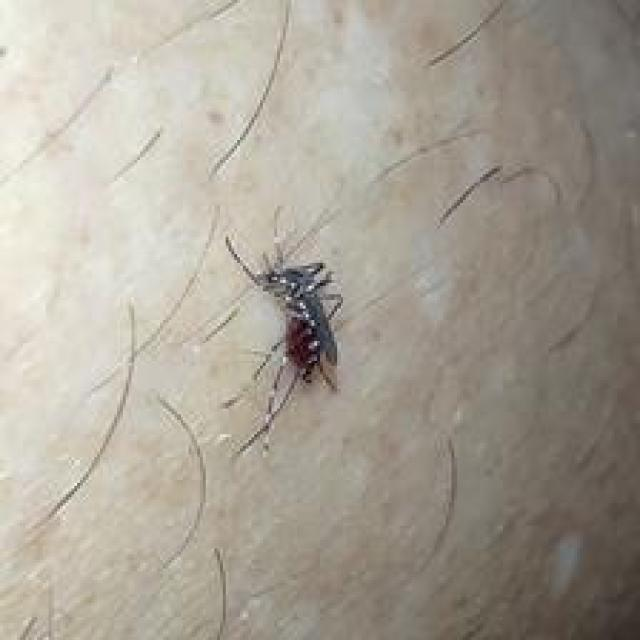Aedes albopictus: (219, 229, 347, 457)
